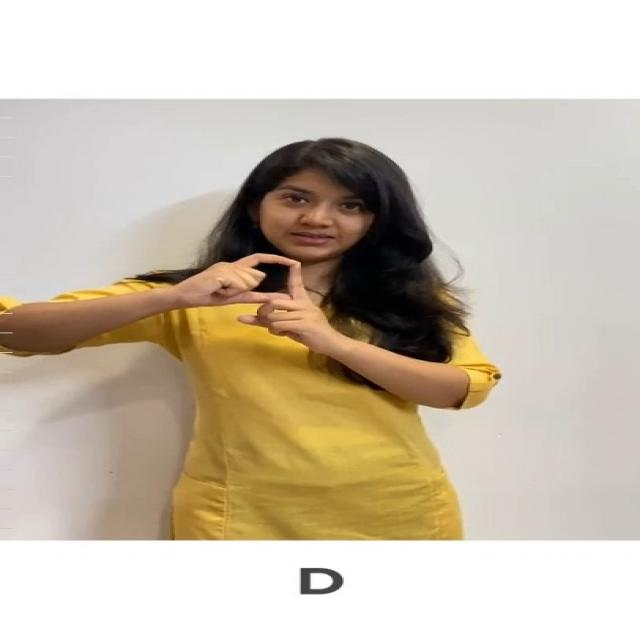D: (172, 245, 348, 360)
